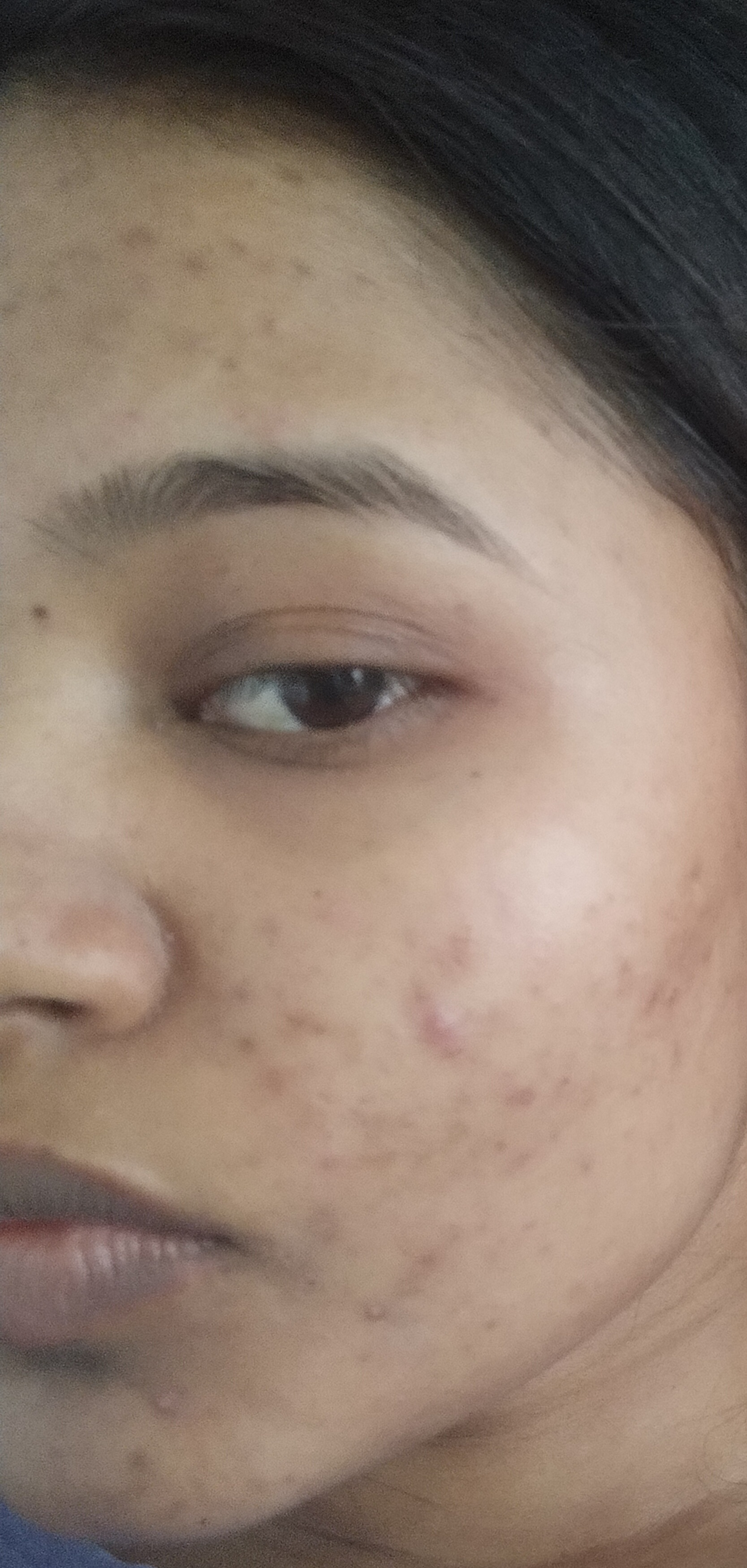papule: (398, 973, 499, 1058), (344, 1268, 411, 1361), (131, 1379, 204, 1446)
